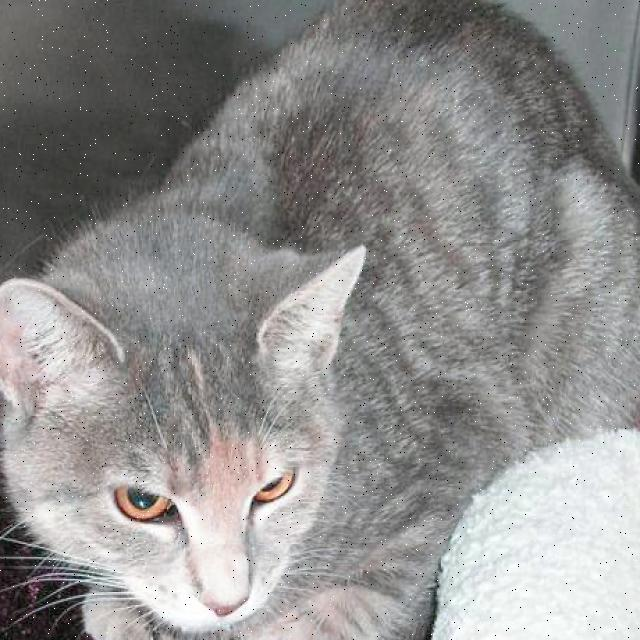Cat: (0, 237, 415, 640)
